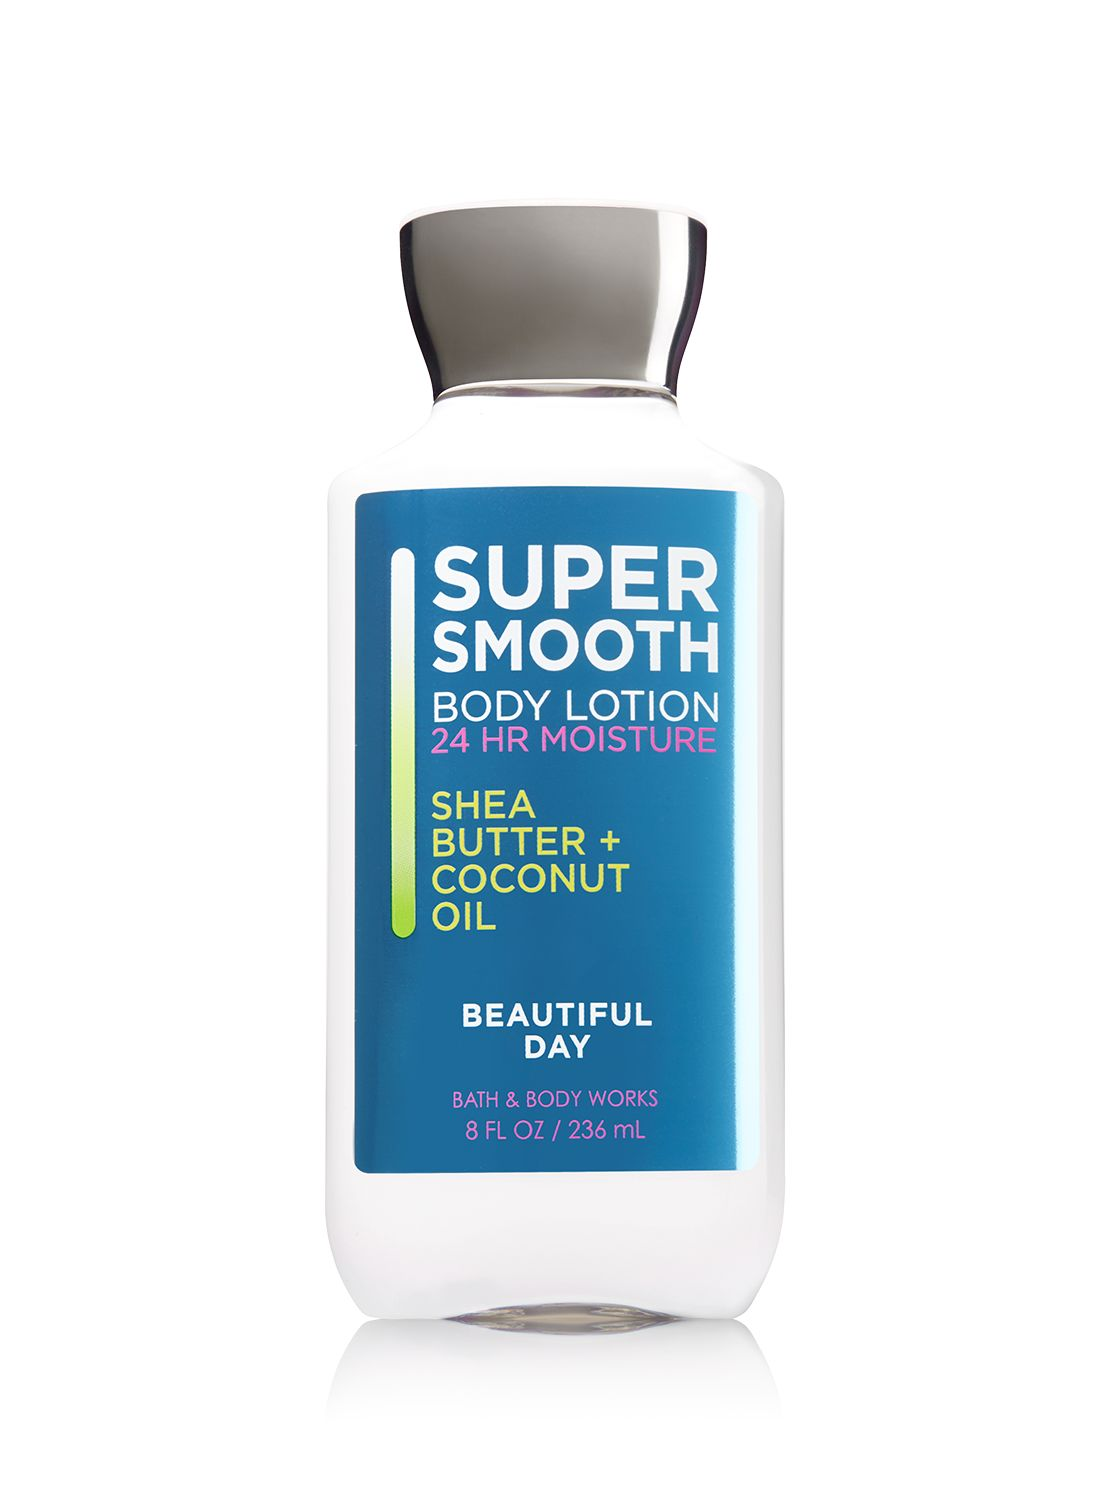Nonrec_Plastic: (258, 148, 868, 1344)
